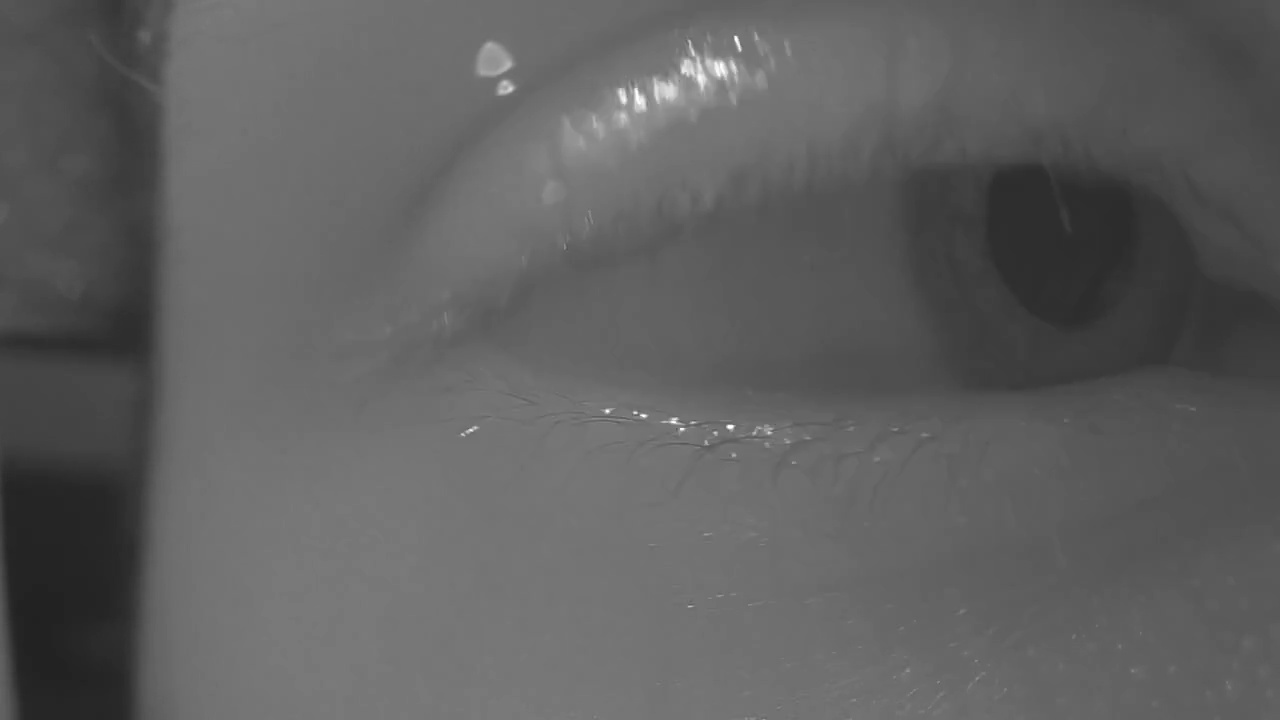pupil: (986, 163, 1136, 325)
